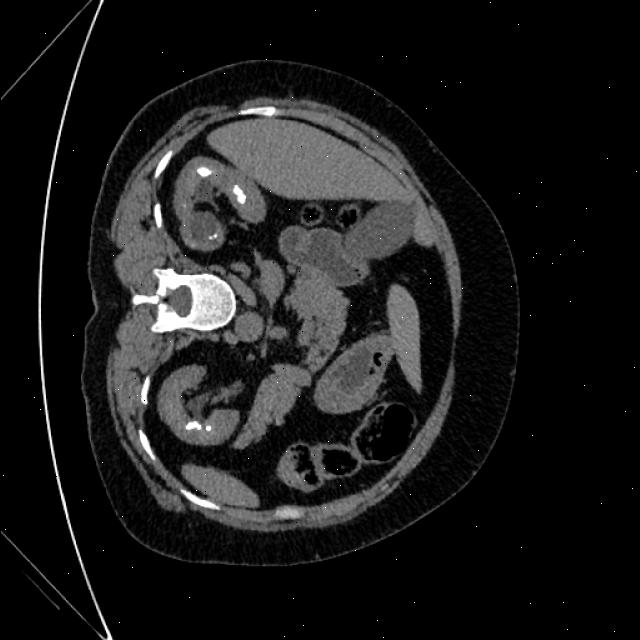kidneystone: (231, 185, 249, 214)
